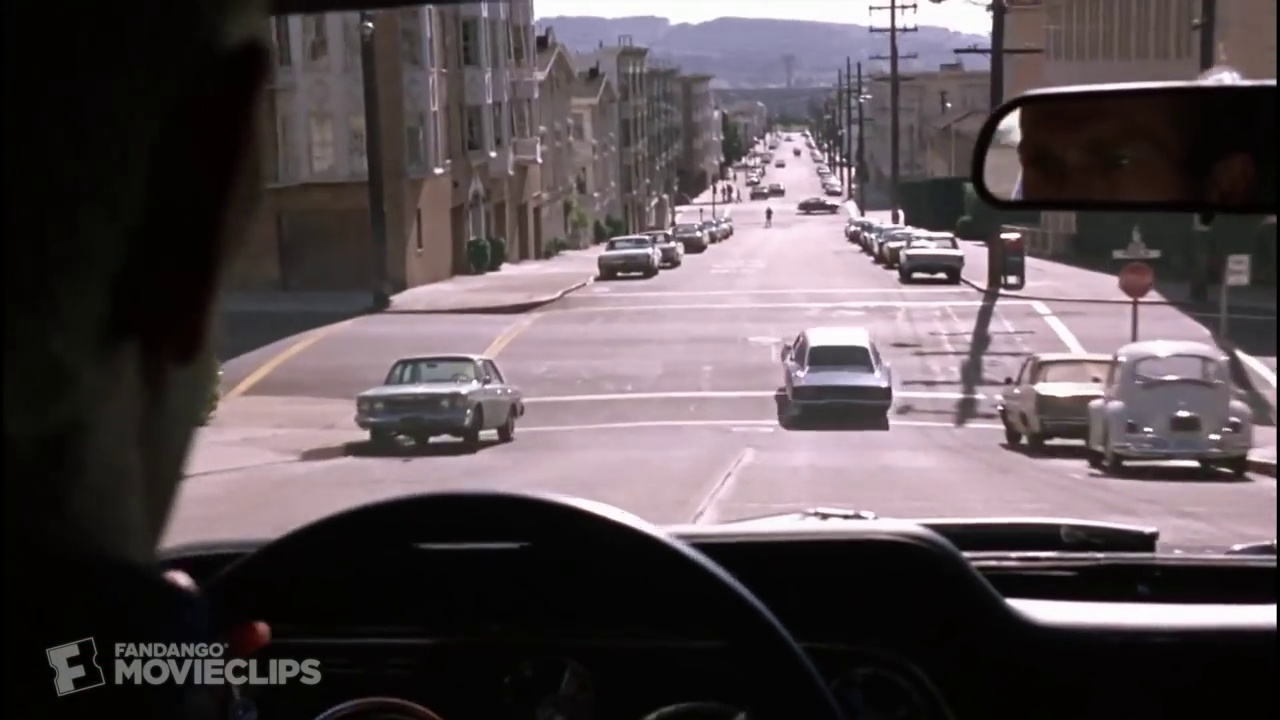car: (211, 485, 1280, 717), (1072, 337, 1259, 482), (353, 347, 529, 464), (989, 343, 1139, 458), (775, 319, 899, 426), (890, 225, 965, 291), (594, 231, 671, 282), (631, 223, 687, 273), (878, 221, 921, 270), (666, 216, 710, 258), (793, 195, 841, 218), (766, 179, 788, 202), (748, 184, 774, 202)
person: (1, 1, 303, 562), (1014, 92, 1280, 208), (762, 202, 778, 233)
stop sign: (1108, 256, 1168, 310)
